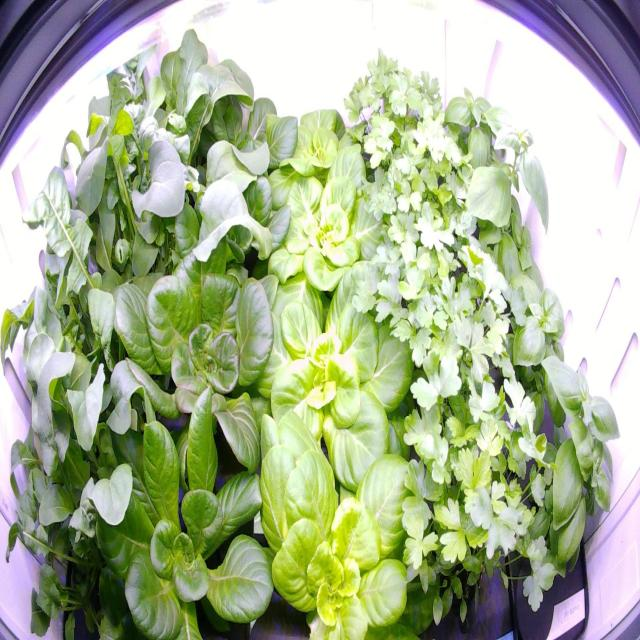young: (80, 364, 292, 636), (94, 208, 281, 480), (237, 255, 433, 499), (240, 414, 449, 639), (253, 139, 412, 324), (252, 84, 402, 240), (172, 62, 300, 208)
